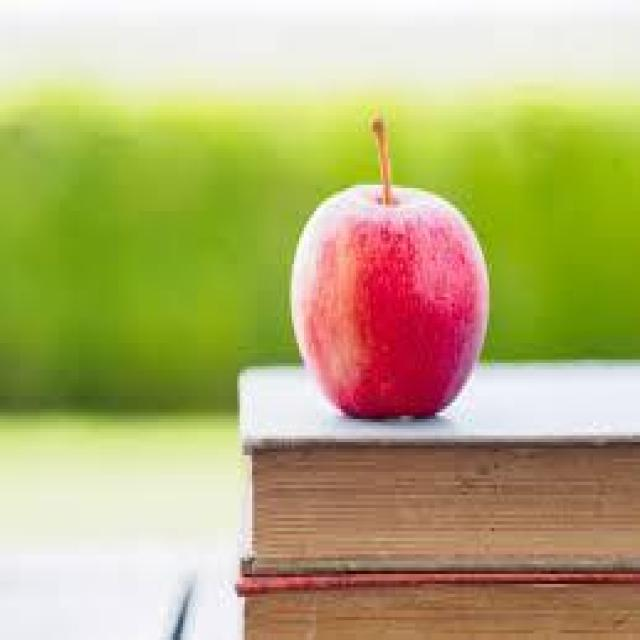maca: (287, 109, 489, 419)
